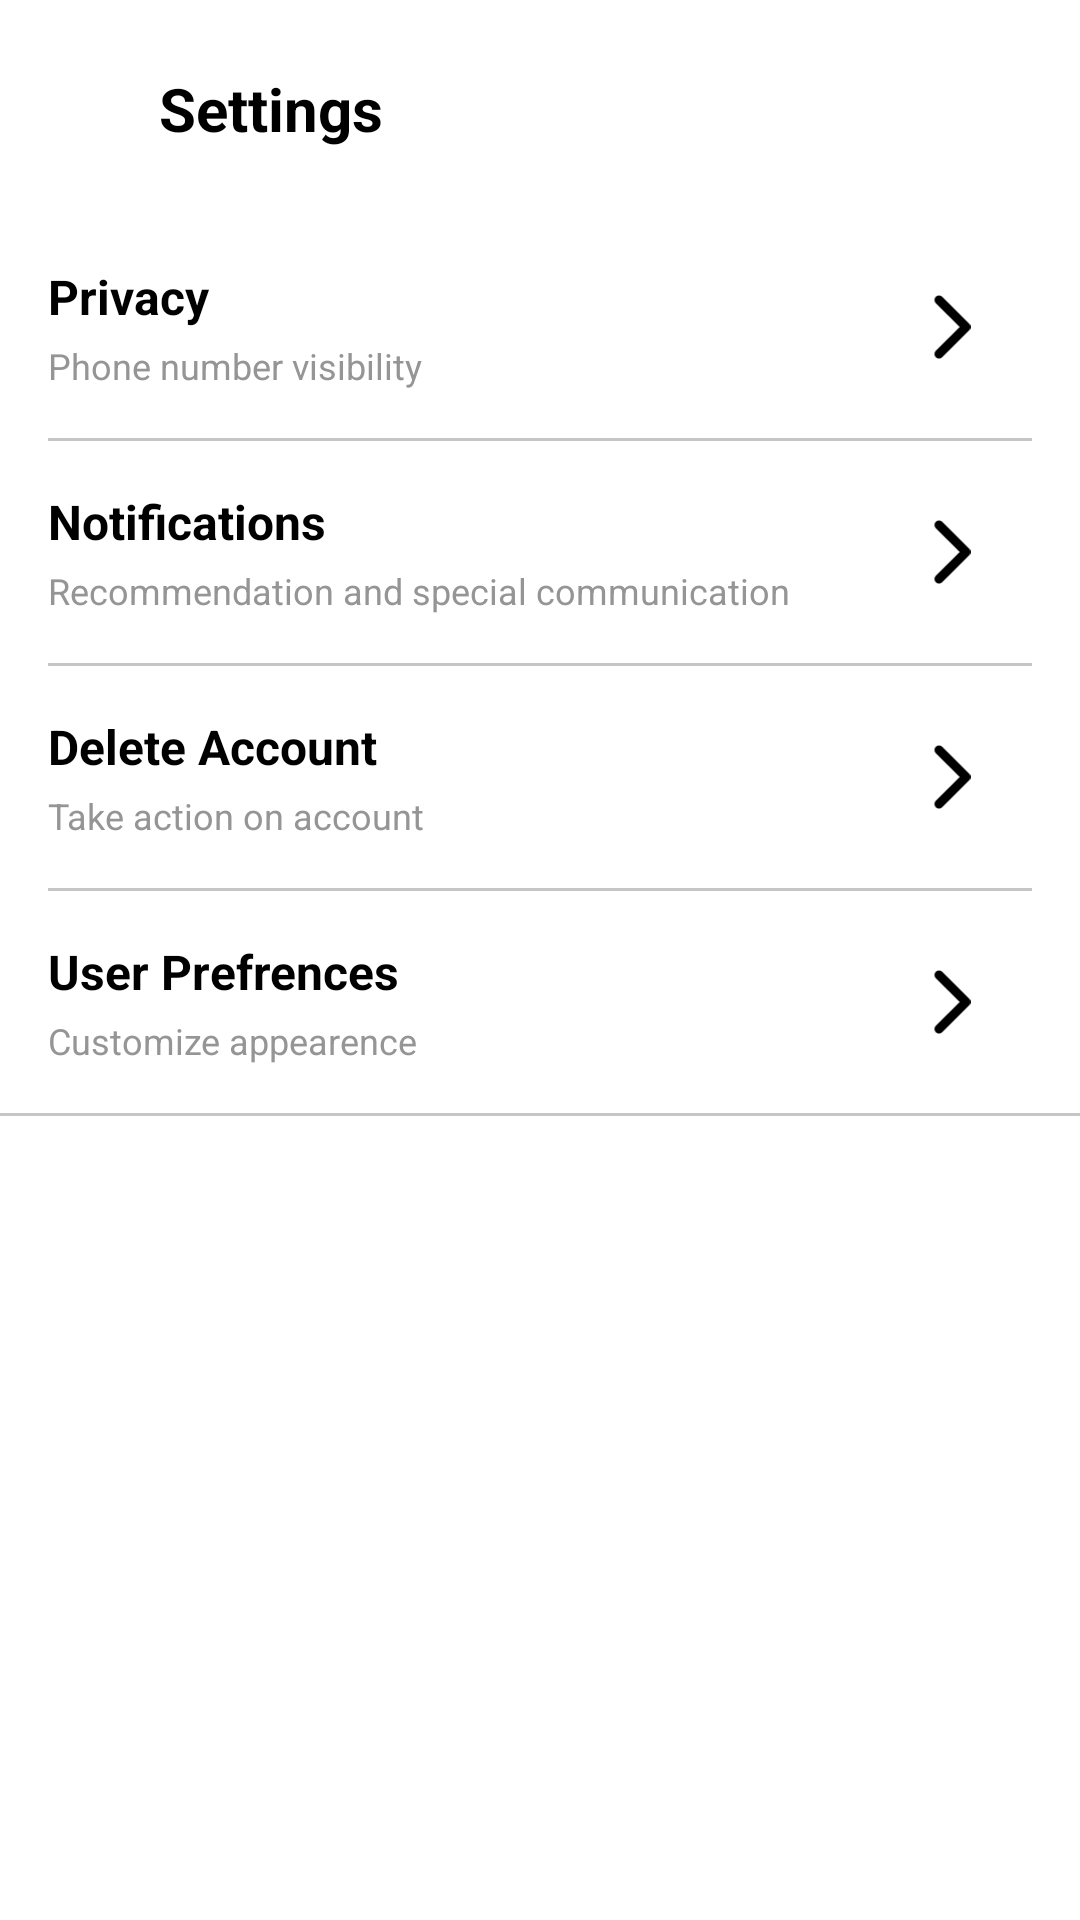

Icon bounding boxes for this 1080x1920 phone screenshot, format {"x1": x1, "y1": y1, "x2": x2, "y2": y2}:
right angle: {"x1": 934, "y1": 295, "x2": 971, "y2": 359}, {"x1": 934, "y1": 520, "x2": 971, "y2": 584}, {"x1": 934, "y1": 745, "x2": 971, "y2": 809}, {"x1": 934, "y1": 970, "x2": 971, "y2": 1034}
